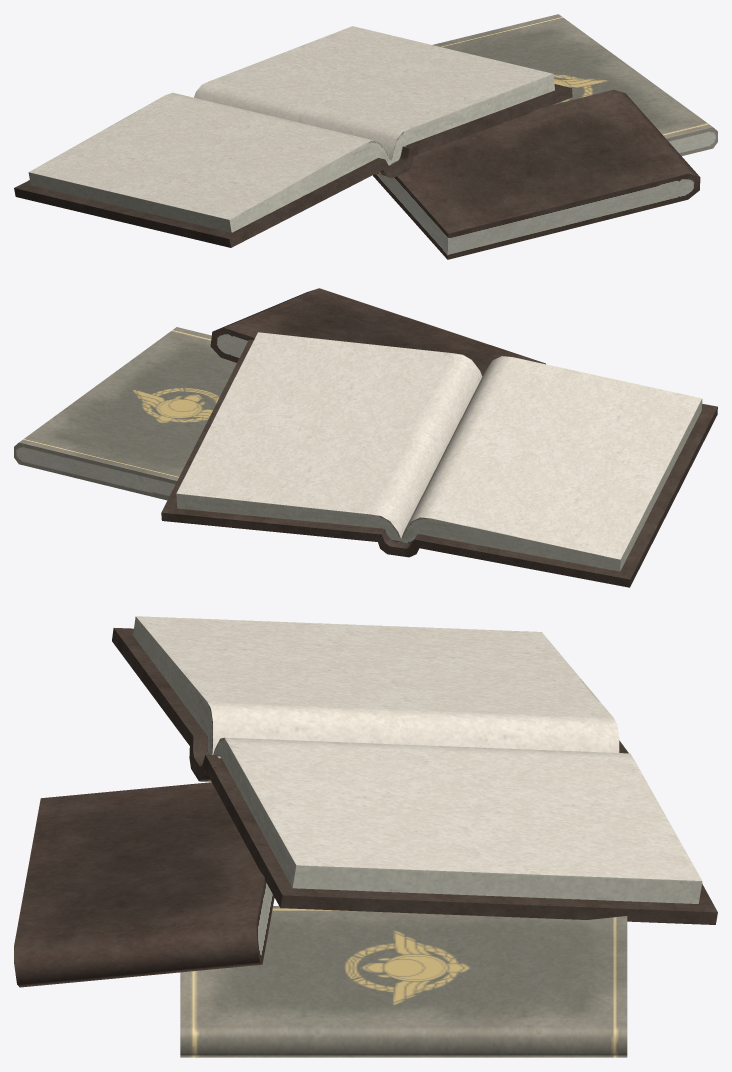
The model's file is BooksGroup04.fbx.
The picture shows the model from 3 angles, top to bottom: view 1: azimuth 30°, elevation 25°; view 2: azimuth 150°, elevation 25°; view 3: azimuth 270°, elevation 25°; orthographic projection. The views are drawn at different scales.
Parts seen in each view (by area): view 1: prop_books_04_inst_001; view 2: prop_books_04_inst_001; view 3: prop_books_04_inst_001.
Boxes of the visible parts, left/top/right/bottom form: prop_books_04_inst_001: left=14, top=14, right=717, bottom=259; prop_books_04_inst_001: left=14, top=288, right=717, bottom=587; prop_books_04_inst_001: left=14, top=616, right=717, bottom=1057.
Bounding box in the file's own units: 88.68 × 12.22 × 64.87.
1 material, 1 textured.
